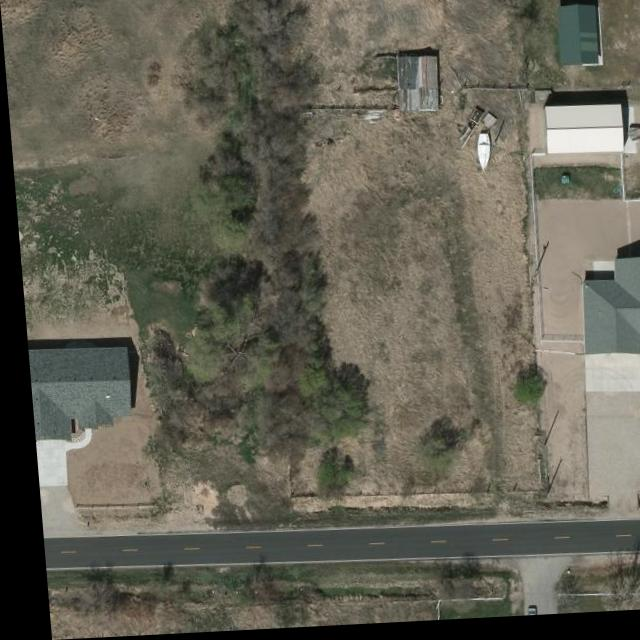vehicle: (624, 131, 640, 149)
